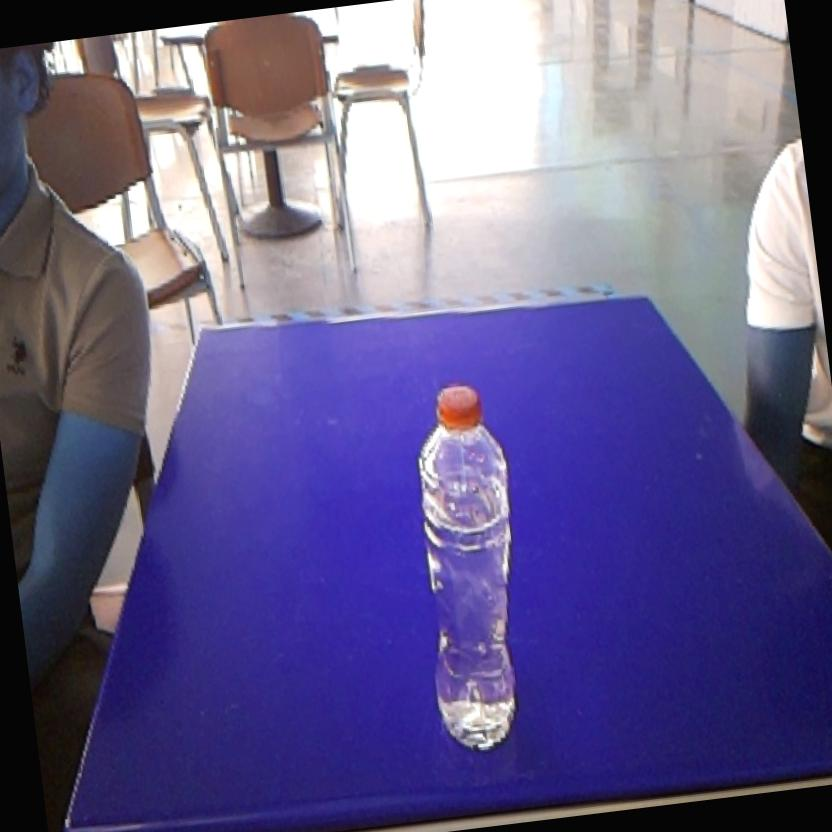no_label: (390, 372, 548, 766)
